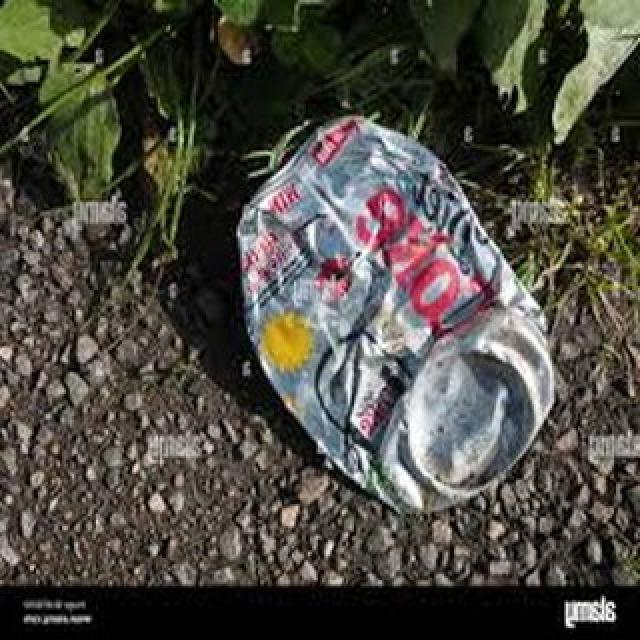can: (235, 113, 557, 510)
